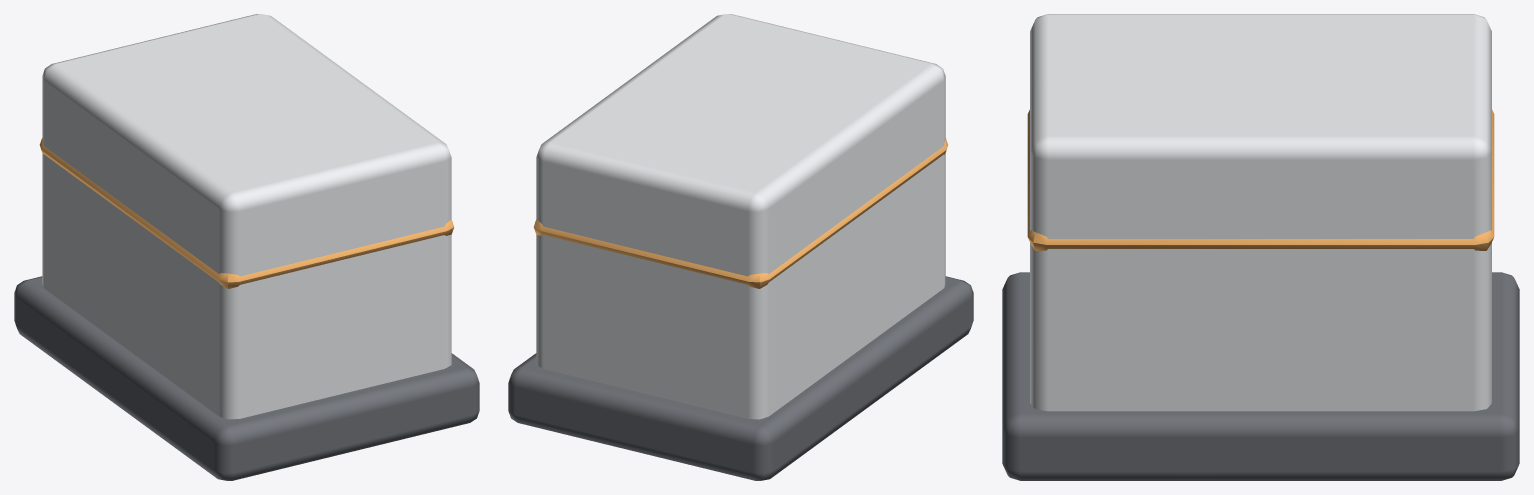
File: att_mag_ext.glb
The picture shows the model from 3 angles, left to right: view 1: azimuth 30°, elevation 25°; view 2: azimuth 150°, elevation 25°; view 3: azimuth 270°, elevation 25°; orthographic projection. The views are drawn at different scales.
Visible parts, largest first — view 1: MagExt; view 2: MagExt; view 3: MagExt.
Boxes of the visible parts, x1=… form: MagExt: x1=14, y1=14, x2=479, y2=480; MagExt: x1=508, y1=14, x2=973, y2=480; MagExt: x1=1002, y1=14, x2=1519, y2=480.
Bounding box in the file's own units: 0.04 × 0.04 × 0.056.
